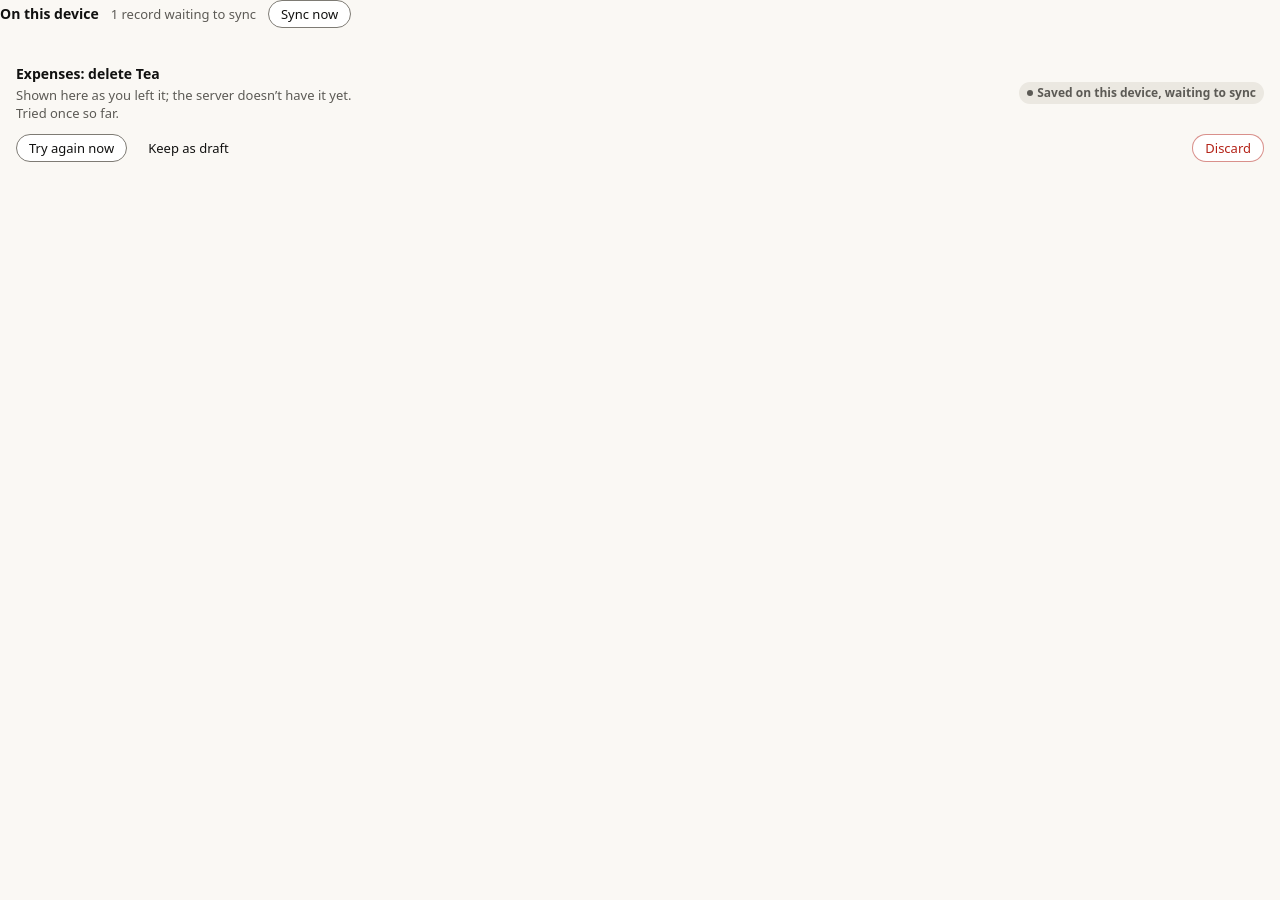
Test: a deletion that may have been sent says the server may already have deleted the record
This screenshot has width=1280, height=900.
Check: the text "Saved on this device, waiting to sync" is shown, box [1019, 82, 1264, 104]
Click the button "Discard" at (1228, 148), box [1192, 134, 1264, 162]
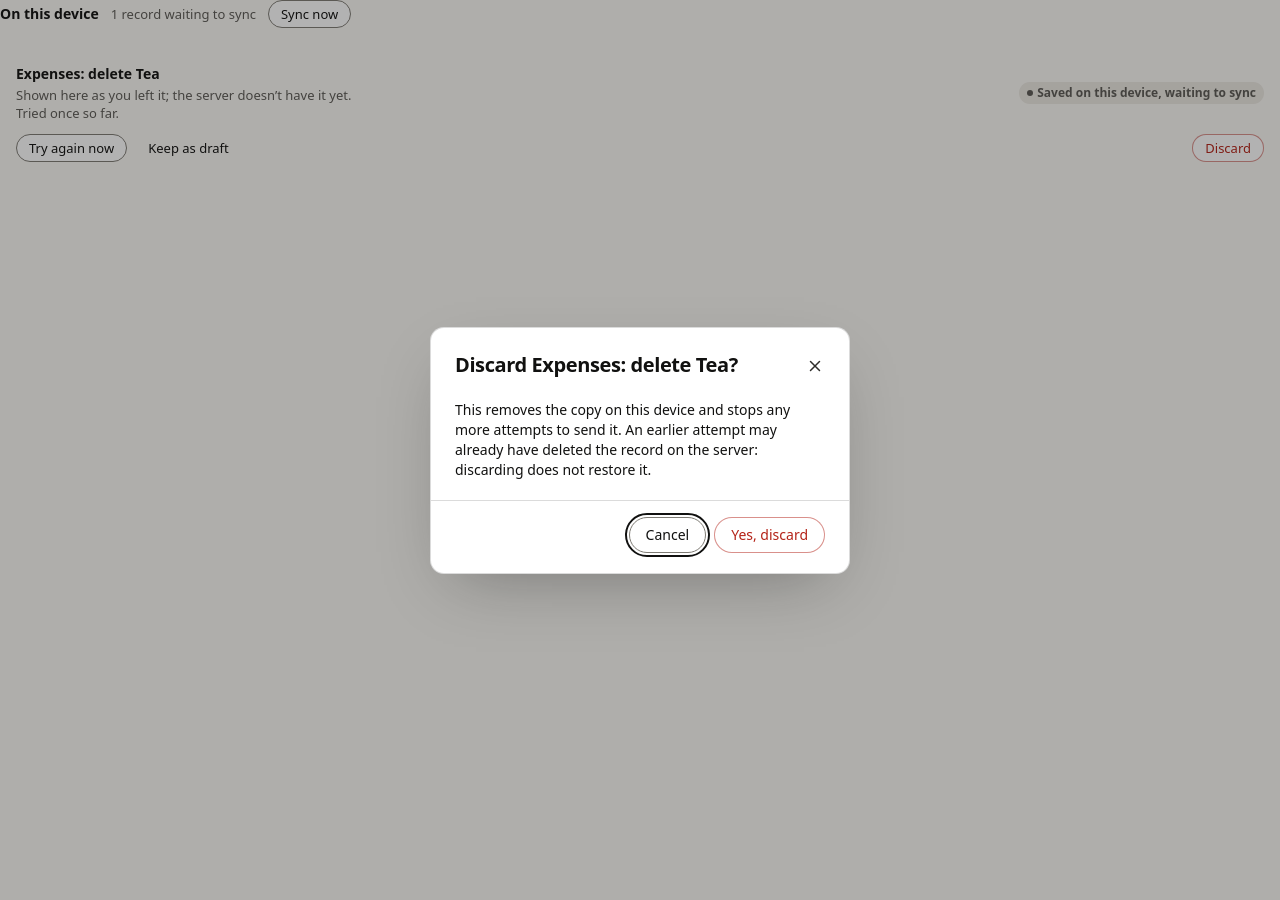
Check: the button "Yes, discard" is shown, box [714, 516, 825, 552]
Check: the text "may already have deleted the record" is shown, box [455, 400, 790, 478]
